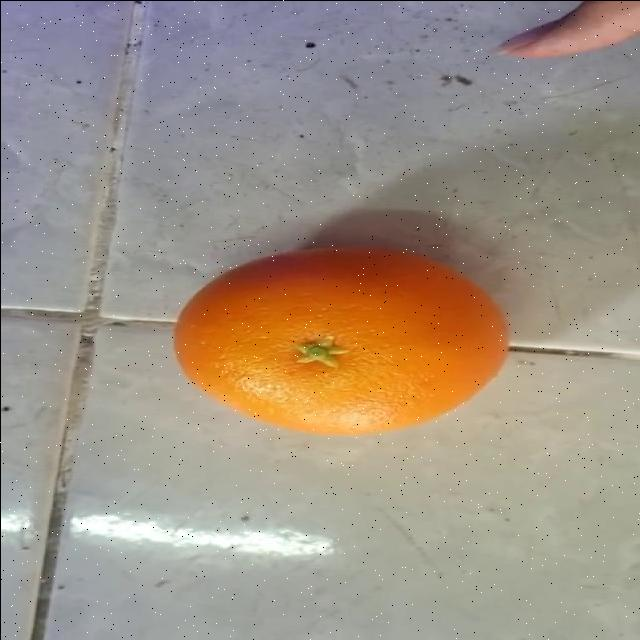Orange: (172, 245, 510, 438)
